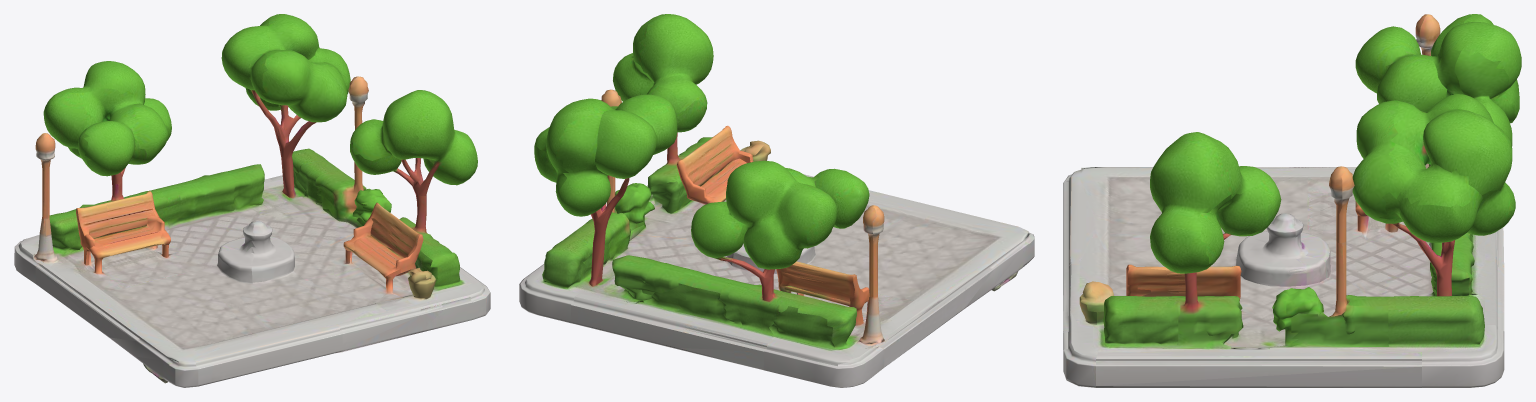
File: park.glb
3 views of the same model, side by side, from view 1: azimuth 30°, elevation 25°; view 2: azimuth 150°, elevation 25°; view 3: azimuth 270°, elevation 25° (orthographic). The views are drawn at different scales.
Visible parts, largest first — view 1: mesh_node; view 2: mesh_node; view 3: mesh_node.
Part boxes in pixels (x1,y1,x2,y2): mesh_node: (14,14,490,387); mesh_node: (519,14,1034,387); mesh_node: (1063,14,1521,387).
Bounding box in the file's own units: 1.91 × 1.06 × 1.76.
1 material, 1 textured.
